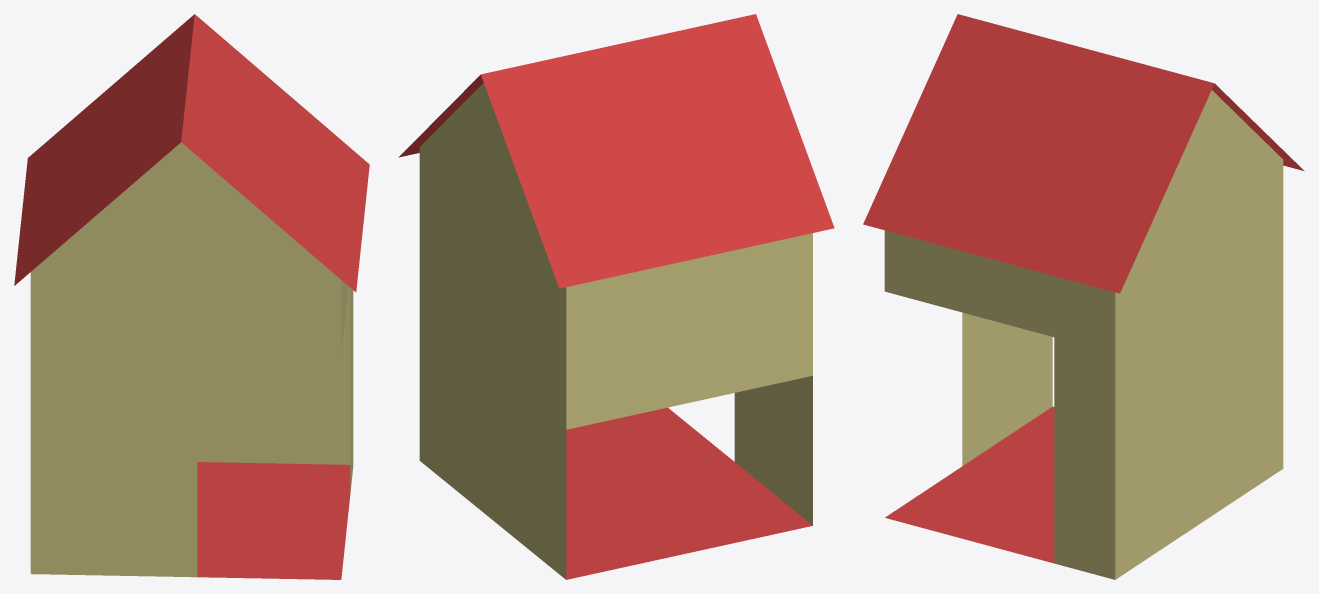
The picture shows the model from 3 angles, left to right: view 1: azimuth 30°, elevation 25°; view 2: azimuth 150°, elevation 25°; view 3: azimuth 270°, elevation 25°; orthographic projection. The views are drawn at different scales.
Size of the model in its own units: 14.47 by 14.09 by 15.59.
